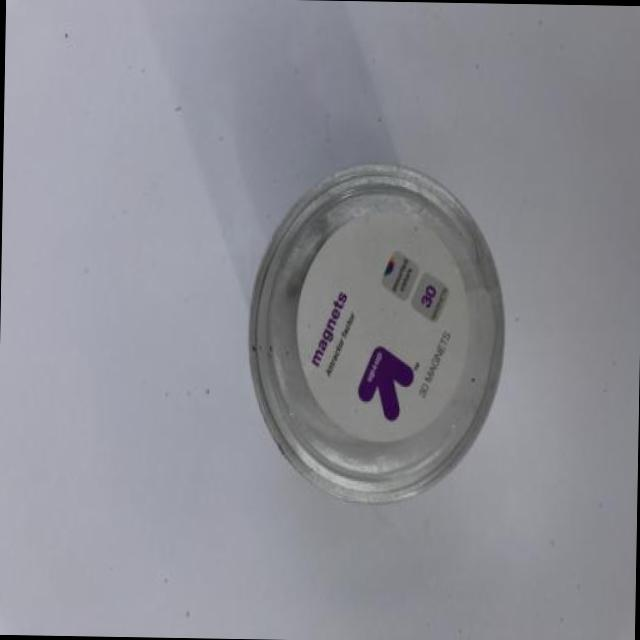Trash: (243, 155, 510, 508)
